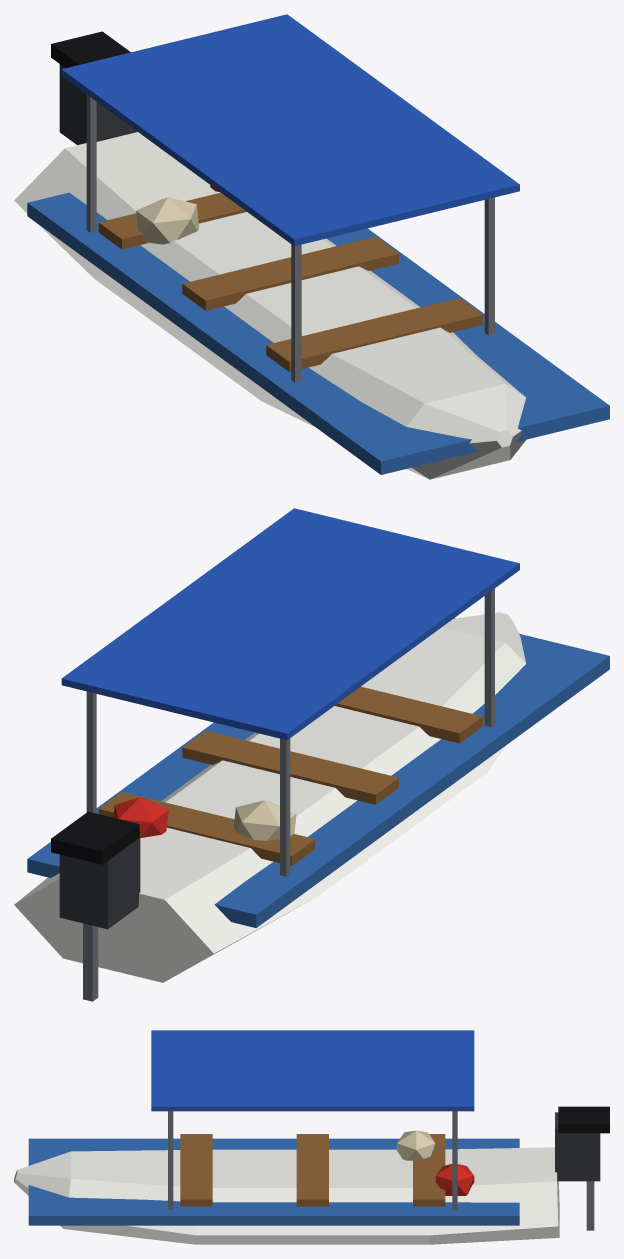
File: Lancha.fbx
3 renders of one model, top to bottom at view 1: azimuth 30°, elevation 25°; view 2: azimuth 150°, elevation 25°; view 3: azimuth 270°, elevation 25°, orthographic. The views are drawn at different scales.
Parts seen in each view (by area): view 1: Lancha; view 2: Lancha; view 3: Lancha.
Boxes of the visible parts, x1,y1,x2,y2 form: Lancha: (14,14,609,479); Lancha: (14,508,609,1001); Lancha: (14,1030,609,1244).
Size of the model in its own units: 1.42 by 1.37 by 4.61.
